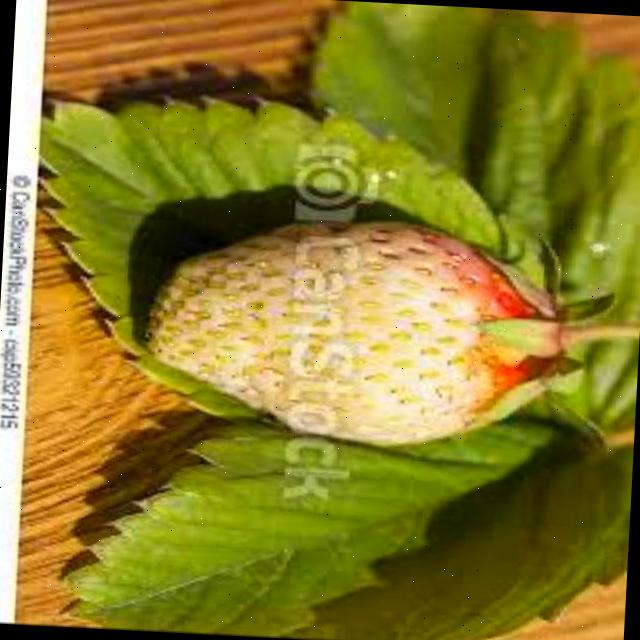strawberry: (144, 212, 563, 456)
